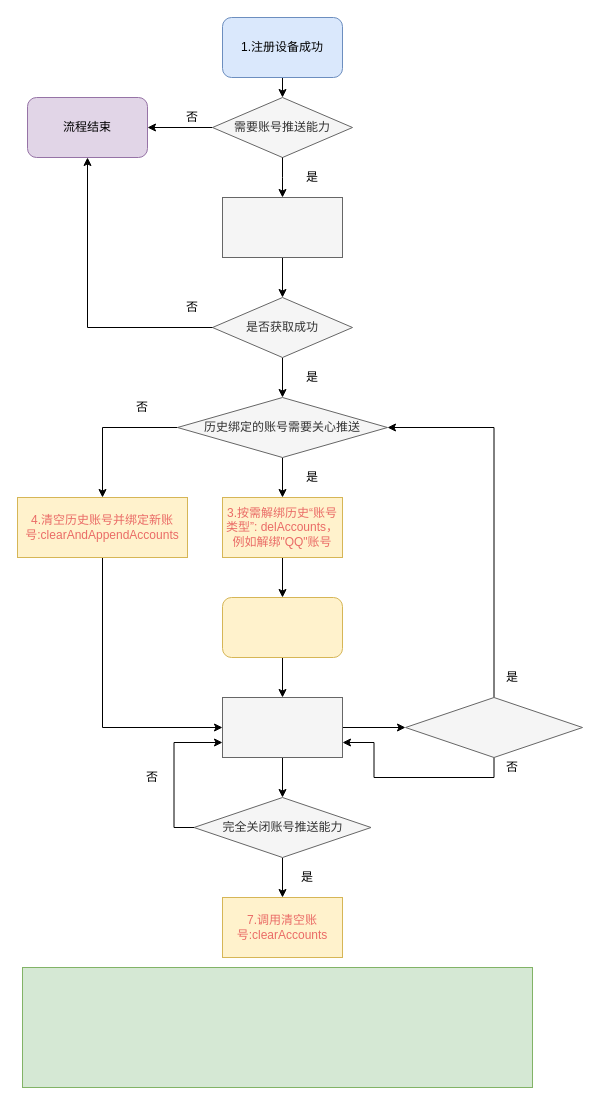
Some shapes in this 600 by 1105 pixel diagram are drawn without their labels. Each missing label, with the centre of its shape:
2.App获取要绑定的账号列表(例如登录"微信"账号): the point at 282,227
5.绑定新账号列表：调用 upsertAccounts, 例如绑定"微信"账号: the point at 282,627
6.用户正常使用App: the point at 282,727
备注 同一种账号类型只支持绑定一个账号: the point at 277,1027
需要变更绑定的账号列表: the point at 493,727
